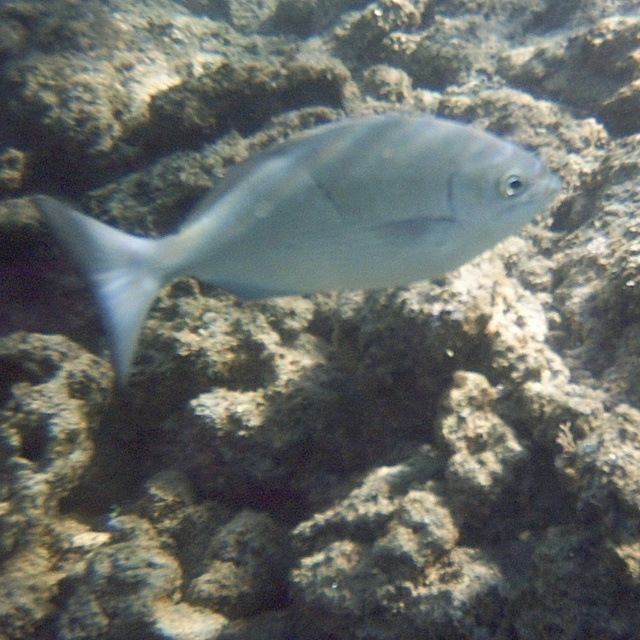Fish: (25, 102, 561, 387)
